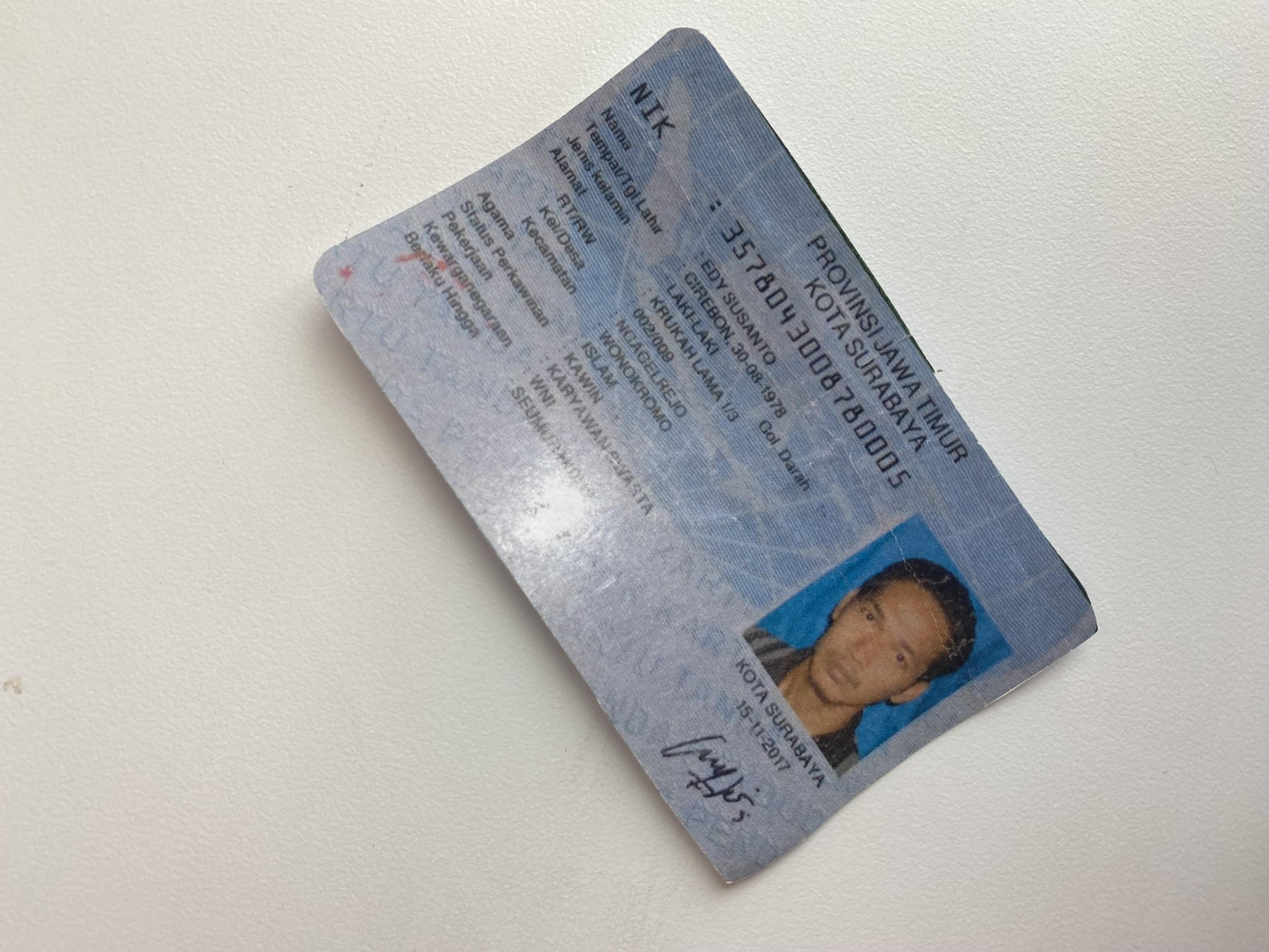ID-card: (88, 228, 1236, 830)
